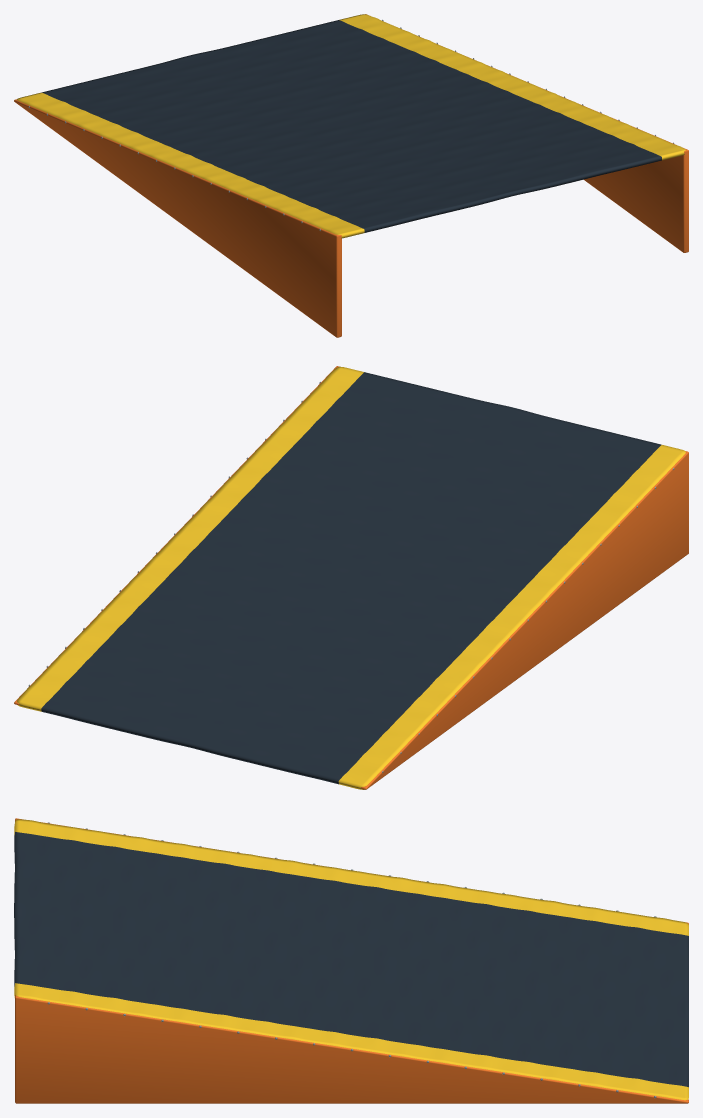
The model's file is Jump_ramp.glb.
3 renders of one model, top to bottom at view 1: azimuth 30°, elevation 25°; view 2: azimuth 150°, elevation 25°; view 3: azimuth 270°, elevation 25°, orthographic. The views are drawn at different scales.
Visible parts, largest first — view 1: Jump_ramp_GameMesh; view 2: Jump_ramp_GameMesh; view 3: Jump_ramp_GameMesh.
Boxes of the visible parts, bbox=[...] form: Jump_ramp_GameMesh: bbox=[14, 14, 688, 337]; Jump_ramp_GameMesh: bbox=[14, 366, 688, 789]; Jump_ramp_GameMesh: bbox=[14, 818, 688, 1103].
Bounding box in the file's own units: 5.06 × 1.43 × 8.01.
